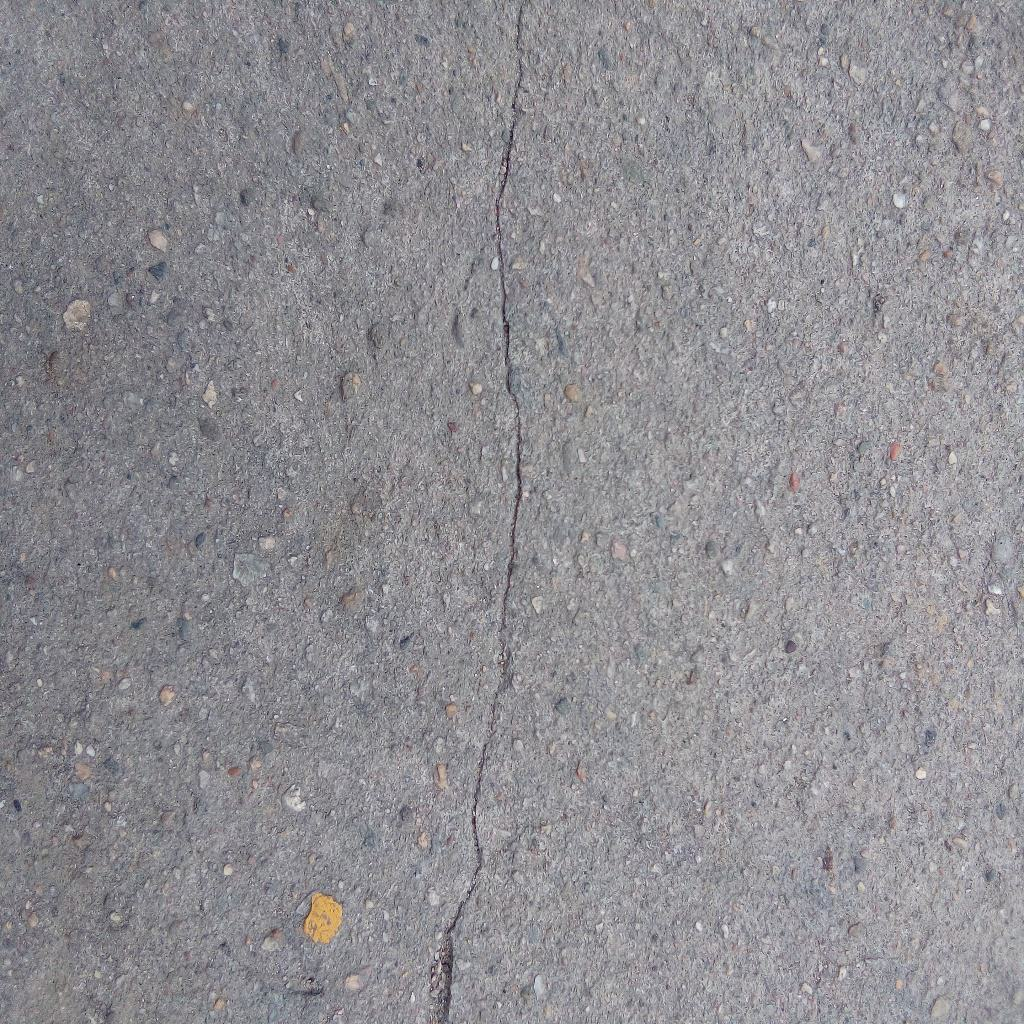Crack: (427, 1, 524, 1024)
